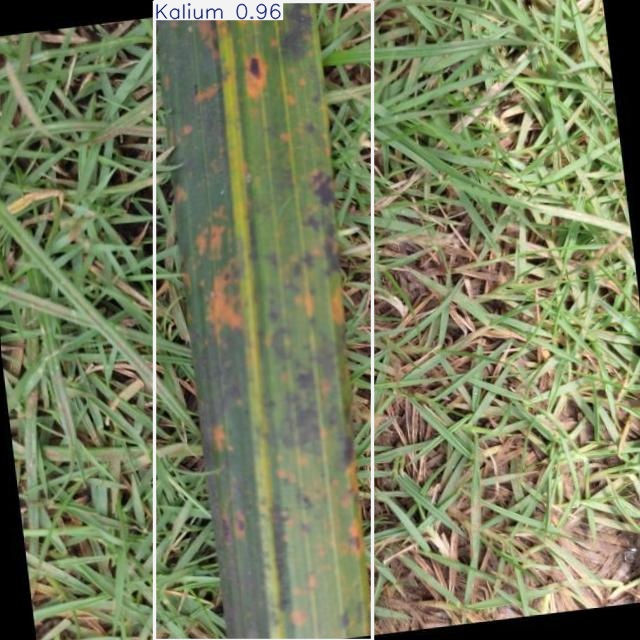Kalium: (155, 1, 373, 640)
